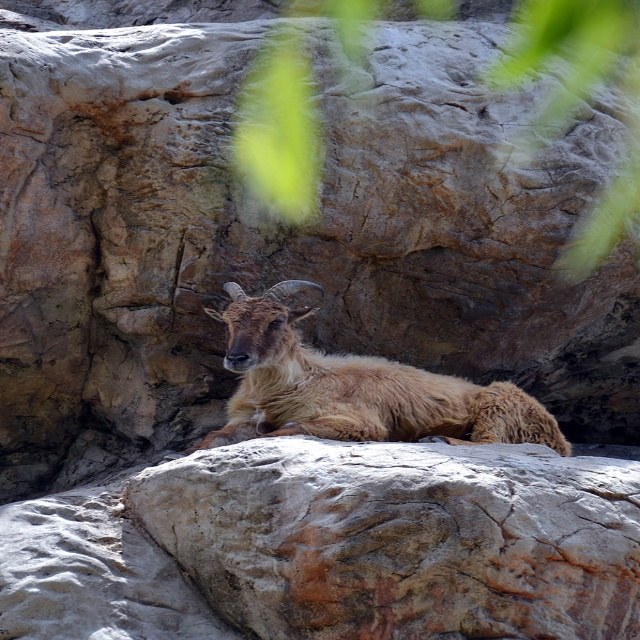Goat: (203, 269, 558, 459)
